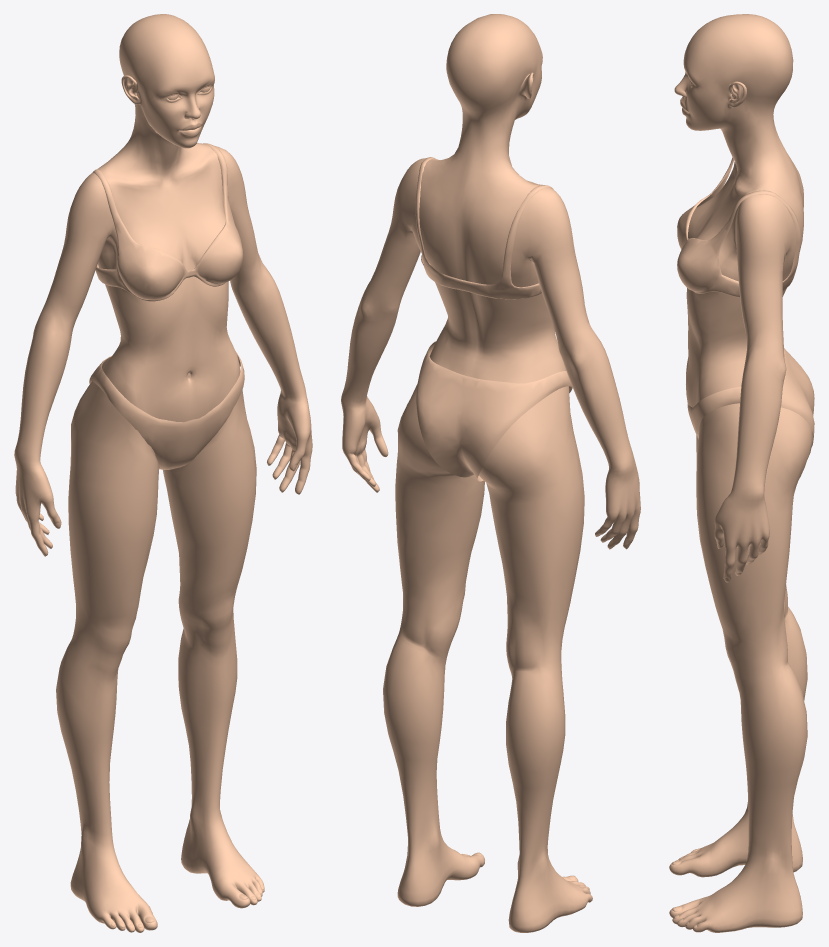
Rendered from women.obj.
3 renders of one model, left to right at view 1: azimuth 30°, elevation 25°; view 2: azimuth 150°, elevation 25°; view 3: azimuth 270°, elevation 25°, orthographic.
Visible parts, largest first — view 1: FreeAll_FreeAllSTL; view 2: FreeAll_FreeAllSTL; view 3: FreeAll_FreeAllSTL.
Part boxes in pixels (box(x1,y1,x2,y2)): FreeAll_FreeAllSTL: box(14, 14, 312, 932); FreeAll_FreeAllSTL: box(341, 14, 640, 932); FreeAll_FreeAllSTL: box(669, 14, 814, 932).
Size of the model in its own units: 2.89 by 8.47 by 1.27.
